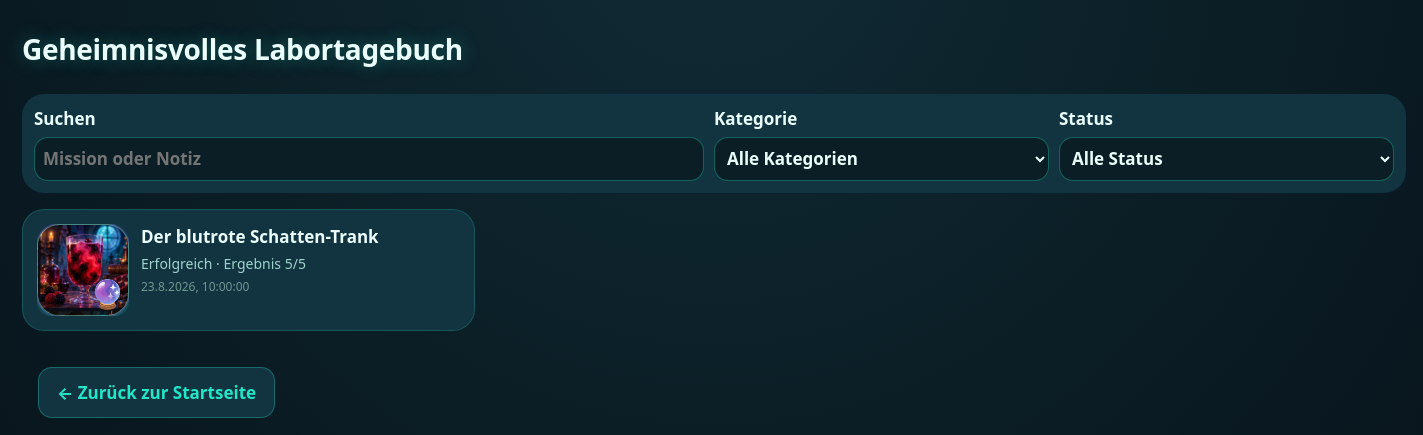
Test: DiaryPage › filtert Einträge nach Suche, Kategorie und Status
Check: the heading "Der blutrote Schatten-Trank" is shown, box [141,224,379,249]
Type "unbekannt" into the search field labelled "Suchen".
click(369, 158); type("unbekannt")  # box [34,136,704,180]
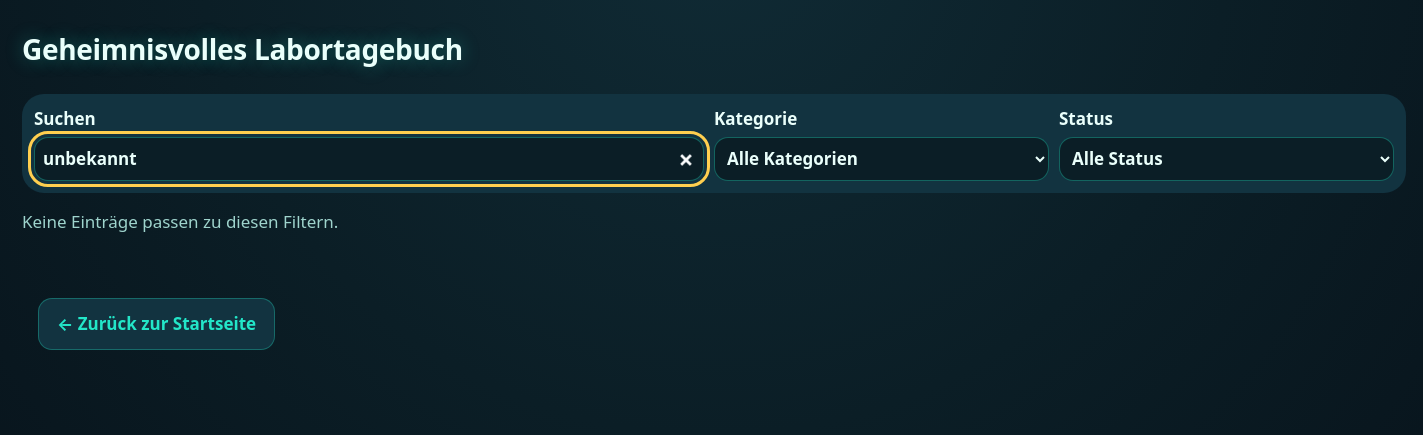
Check: the text "Keine Einträge passen zu diesen Filtern." is shown, box [22,210,338,232]
Clear the search field labelled "Suchen" at (369, 158), box [34,136,704,180]
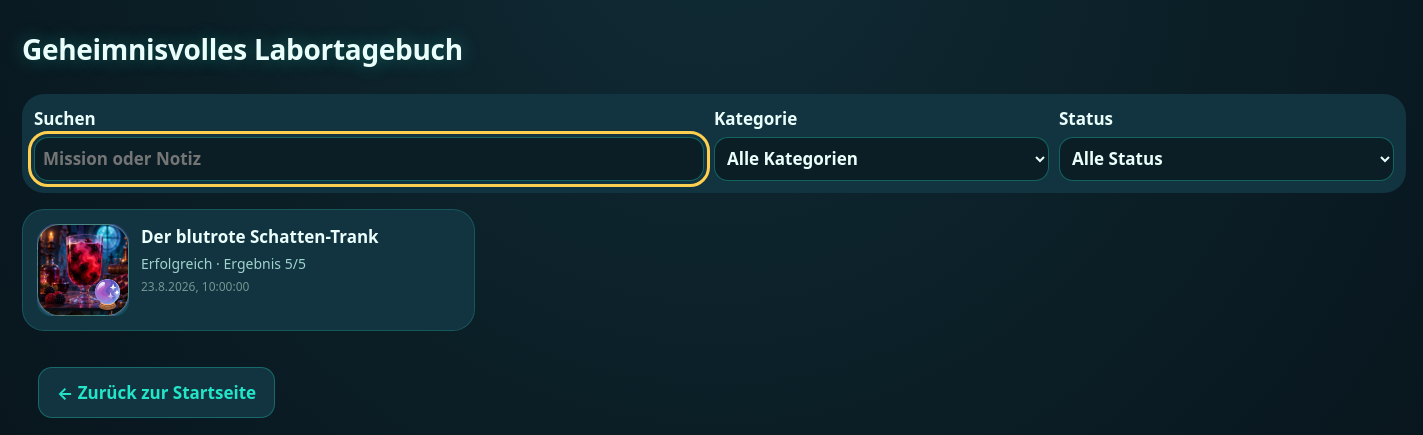
Select "Basteln" in the dropdown labelled "Kategorie" at (882, 158), box [714,136,1049,180]
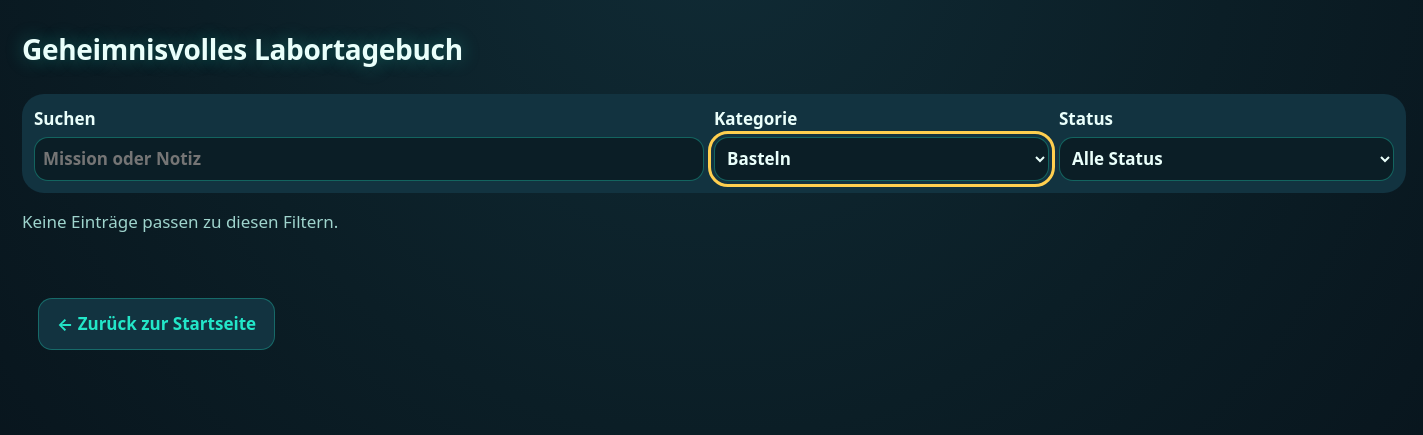
Check: the text "Keine Einträge passen zu diesen Filtern." is shown, box [22,210,338,232]
